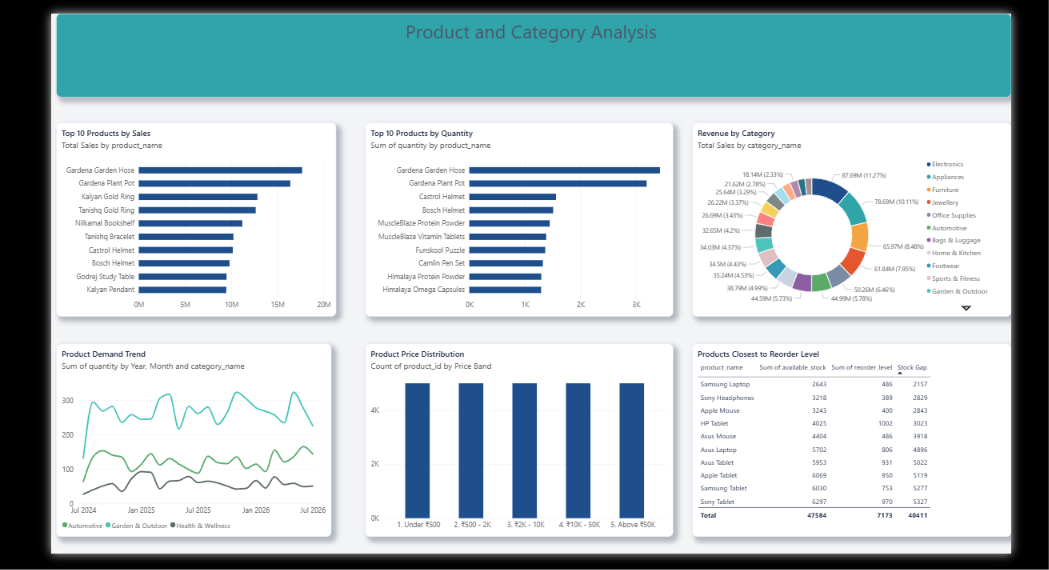

What the dashboard file says about the page in this screenshot:
{"tool":"powerbi","page":{"name":"Product and Category Analysis ","canvas":[1920,1080],"ordinal":2},"visuals":[{"type":"textbox","box":[10,0,1910,167.5],"z":1000},{"type":"clusteredBarChart","title":"Top 10 Products by Sales","fields":{"Category":["DimProduct.product_name"],"Y":["FactOrderItems.Total Sales"]},"box":[10,218,560,388],"z":2000},{"type":"clusteredBarChart","title":"Top 10 Products by Quantity","fields":{"Category":["DimProduct.product_name"],"Y":["Sum(FactOrderItems.quantity)"]},"box":[628,218,616,388],"z":3000},{"type":"donutChart","title":"Revenue by Category","fields":{"Category":["DimCategory.category_name"],"Y":["FactOrderItems.Total Sales"]},"box":[1282,218,638,388],"z":4000},{"type":"lineChart","title":"Product Demand Trend","fields":{"Category":["DimDate.Date.Variation.Date Hierarchy.Year","DimDate.Date.Variation.Date Hierarchy.Month"],"Series":["DimCategory.category_name"],"Y":["Sum(FactOrderItems.quantity)"]},"box":[10,660,550,386],"z":5000},{"type":"clusteredColumnChart","title":"Product Price Distribution","fields":{"Category":["FactOrderItems.Price Band"],"Y":["Count(DimProduct.product_id)"]},"box":[628,660,616,386],"z":6000},{"type":"tableEx","title":"Products Closest to Reorder Level","fields":{"Values":["DimProduct.product_name","Sum(FactInventory.available_stock)","Sum(FactInventory.reorder_level)","FactInventory.Stock Gap"]},"box":[1282,660,638,386],"z":7000}]}

Visuals, with their boxes on the page's 1920x1080 design canvas (x1, y1, x2, y2). These are canvas units, not pixel positions in the 1049x570 screenshot, which may show the page scaled, cropped or inside an application window:
textbox: [10,0,1920,168]
"Top 10 Products by Sales" clusteredBarChart: [10,218,570,606]
"Top 10 Products by Quantity" clusteredBarChart: [628,218,1244,606]
"Revenue by Category" donutChart: [1282,218,1920,606]
"Product Demand Trend" lineChart: [10,660,560,1046]
"Product Price Distribution" clusteredColumnChart: [628,660,1244,1046]
"Products Closest to Reorder Level" tableEx: [1282,660,1920,1046]
